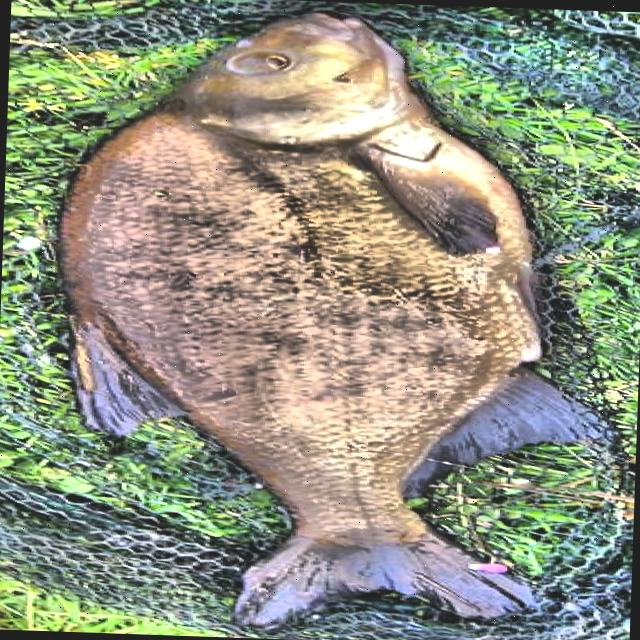fish: (38, 2, 618, 634)
